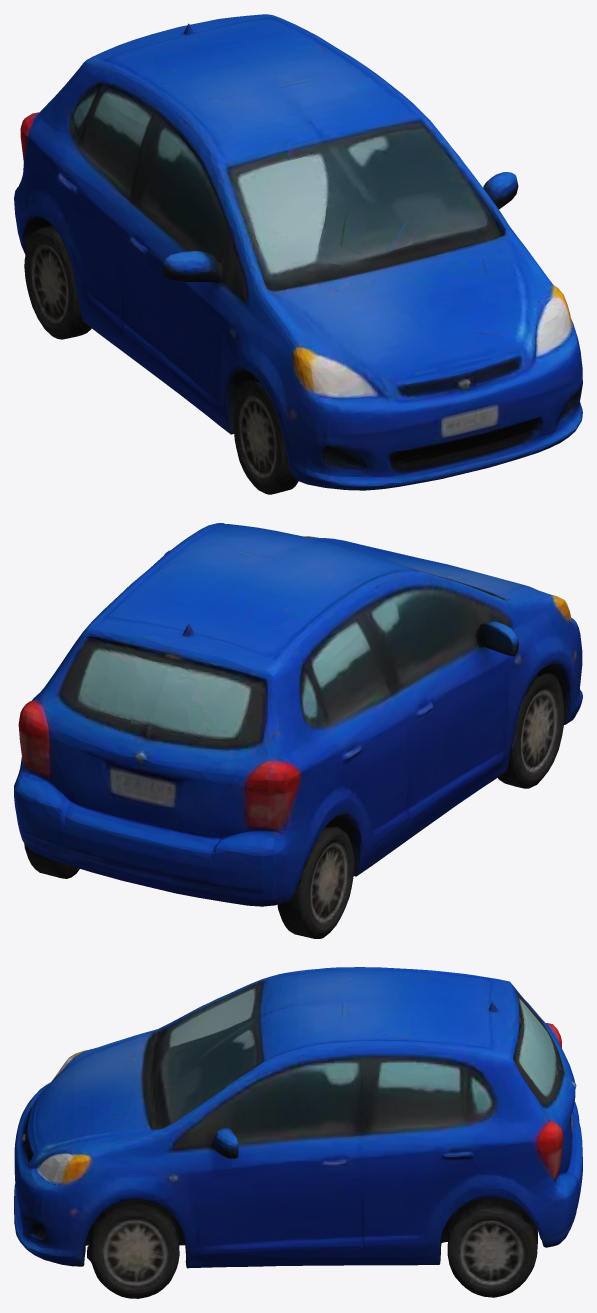
File: sedan.glb
3 renders of one model, top to bottom at view 1: azimuth 30°, elevation 25°; view 2: azimuth 150°, elevation 25°; view 3: azimuth 270°, elevation 25°, orthographic. The views are drawn at different scales.
Visible parts, largest first — view 1: world; view 2: world; view 3: world.
Part boxes in pixels (left/top/right/bottom): world: left=14, top=14, right=582, bottom=494; world: left=14, top=523, right=582, bottom=938; world: left=14, top=967, right=582, bottom=1298.
Size of the model in its own units: 0.6088 by 0.4669 by 1.
1 material, 1 textured.
